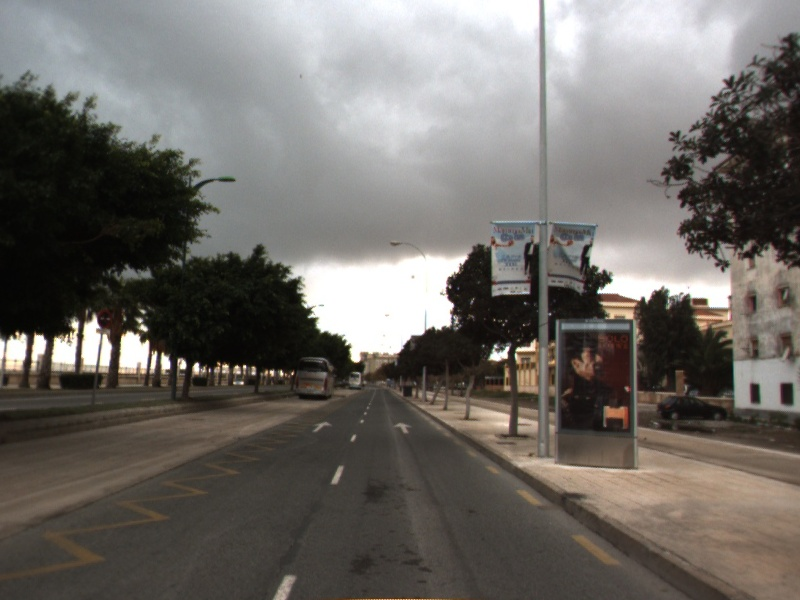STRAIGHT: (310, 420, 335, 434), (391, 421, 415, 435)
